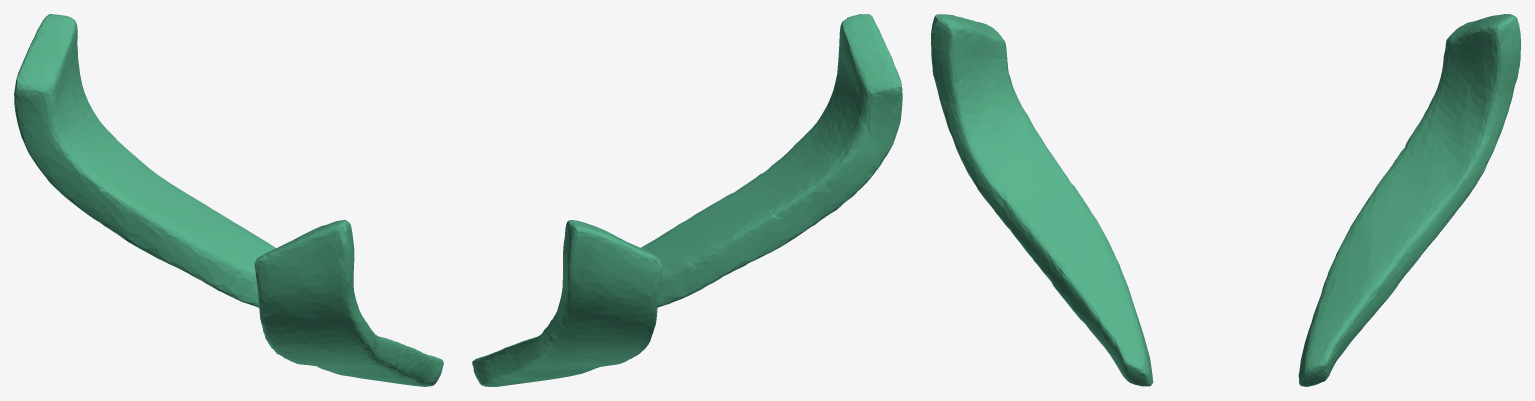
3 renders of one model, left to right at view 1: azimuth 30°, elevation 25°; view 2: azimuth 150°, elevation 25°; view 3: azimuth 270°, elevation 25°, orthographic.
Parts seen in each view (by area): view 1: 648.obj; view 2: 648.obj; view 3: 648.obj.
Part boxes in pixels (x1,y1,x2,y2): 648.obj: (14, 14, 443, 386); 648.obj: (472, 14, 902, 386); 648.obj: (931, 14, 1520, 386).
Bounding box in the file's own units: 3280 × 3395 × 6481.
